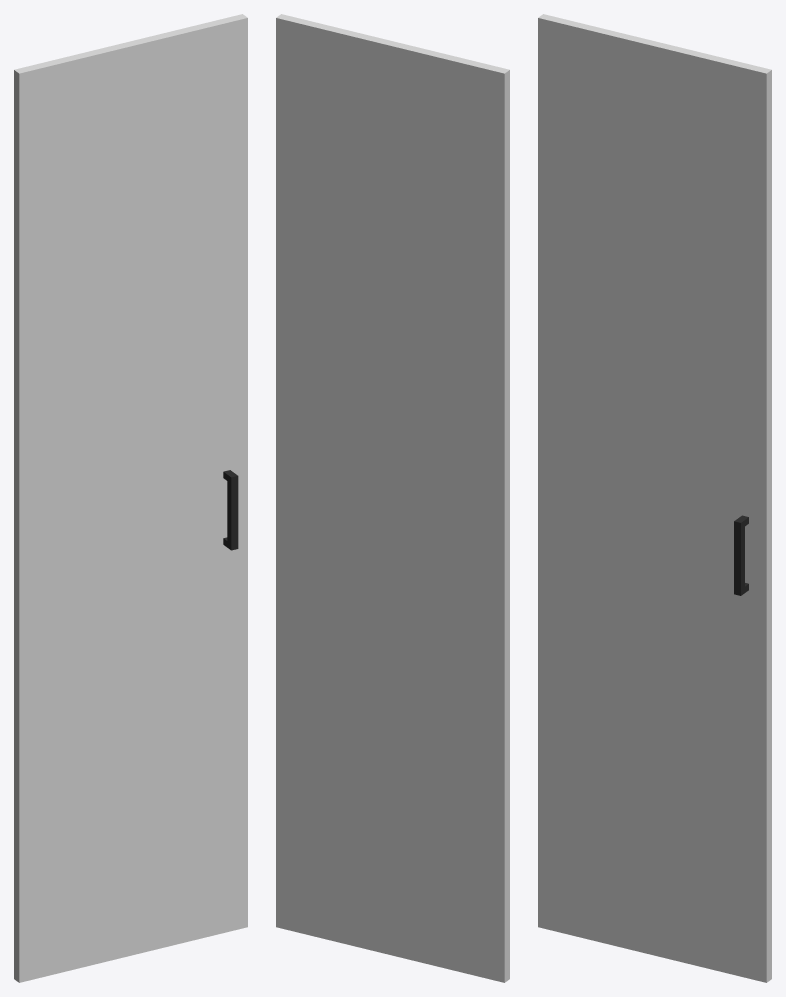
The model's file is Wardrobe1_C1_03.fbx.
The picture shows the model from 3 angles, left to right: view 1: azimuth 30°, elevation 25°; view 2: azimuth 150°, elevation 25°; view 3: azimuth 330°, elevation 25°; orthographic projection.
Parts seen in each view (by area): view 1: Wardrobe1_C1_03; view 2: Wardrobe1_C1_03; view 3: Wardrobe1_C1_03.
Part boxes in pixels (<box>): Wardrobe1_C1_03: <box>14,14,247,982</box>; Wardrobe1_C1_03: <box>276,14,509,982</box>; Wardrobe1_C1_03: <box>538,14,771,982</box>.
Size of the model in its own units: 50 by 190 by 5.02.
